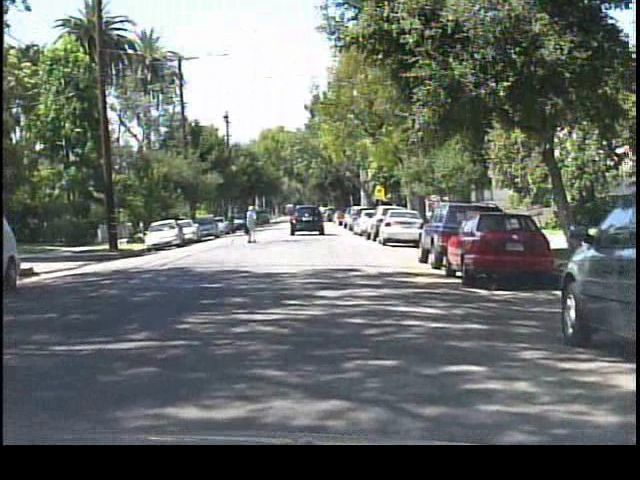person: (240, 200, 264, 245)
